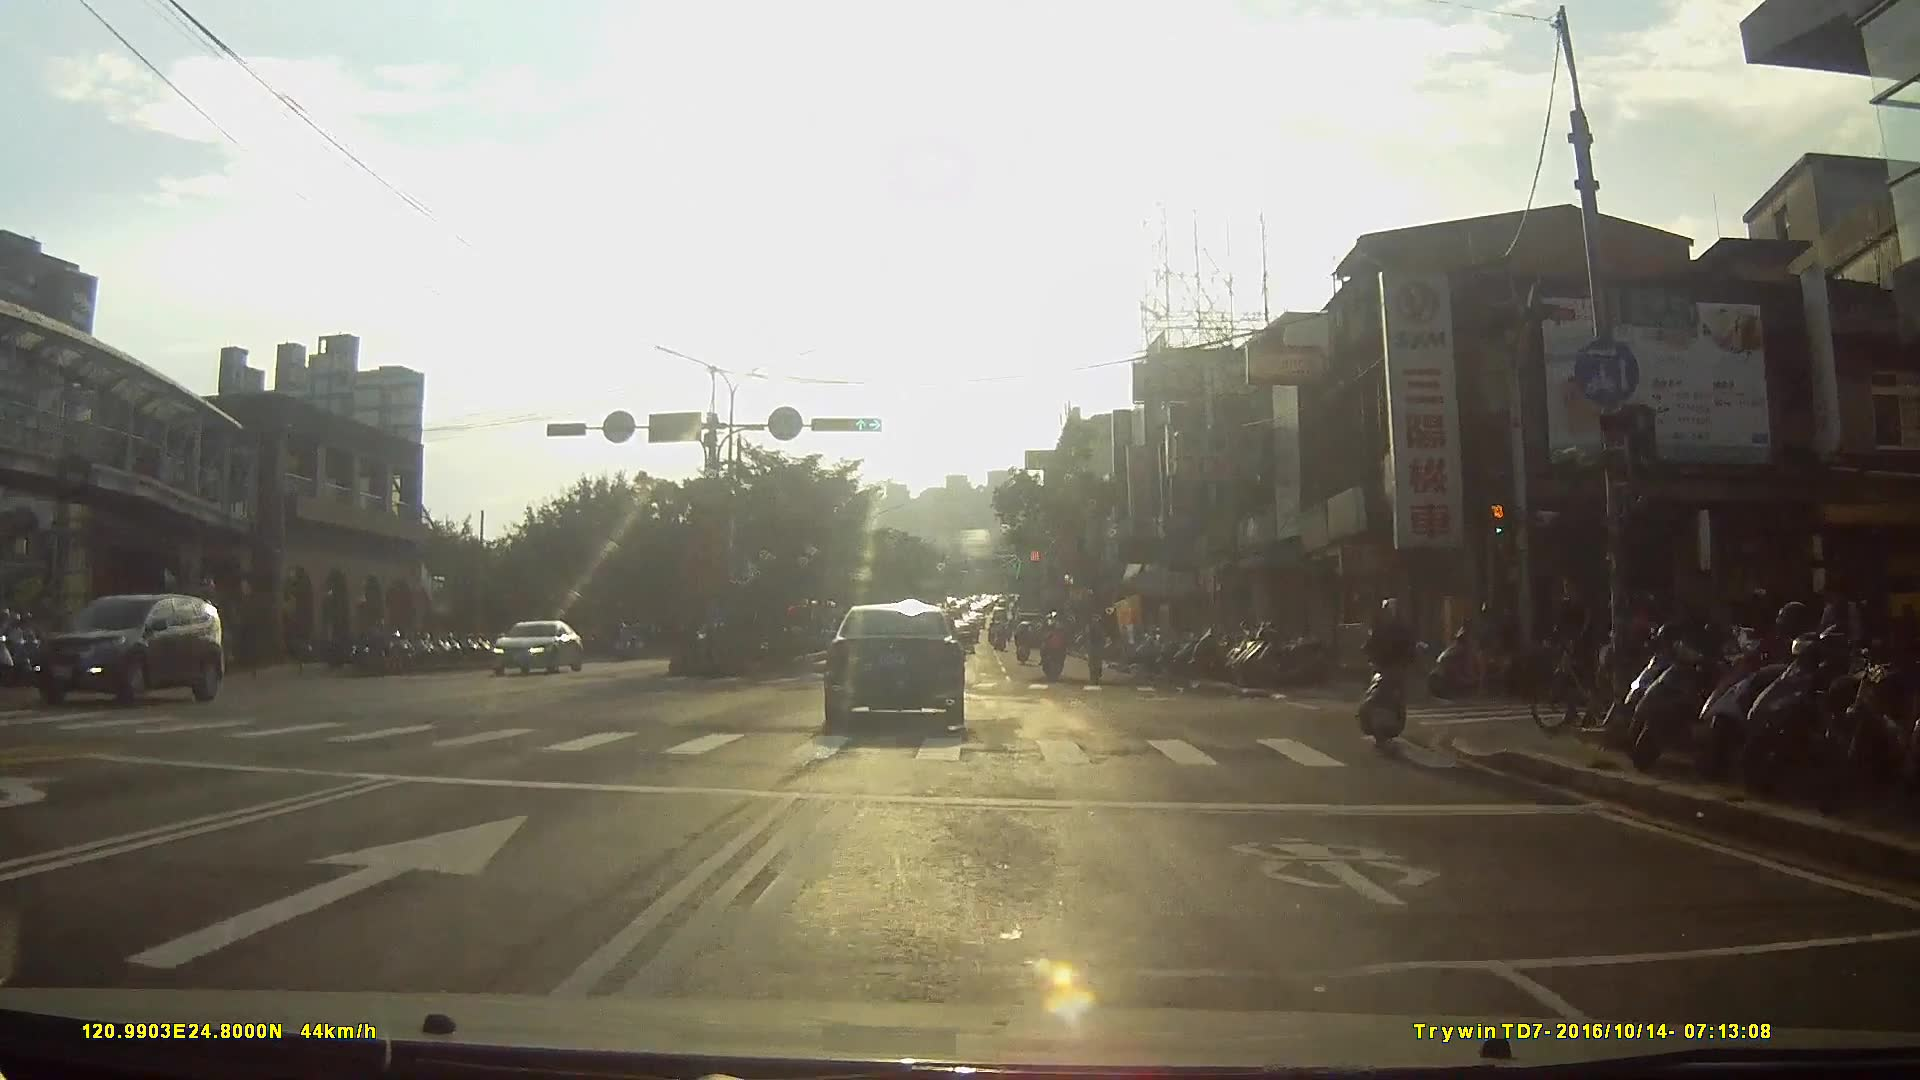pedestrian: (1824, 584, 1861, 690)
rider: (1524, 567, 1649, 737), (1360, 612, 1438, 762), (1039, 620, 1071, 683), (361, 622, 394, 681), (1012, 624, 1035, 671)
vehicle: (46, 594, 235, 718), (824, 609, 983, 750), (487, 622, 588, 686)
